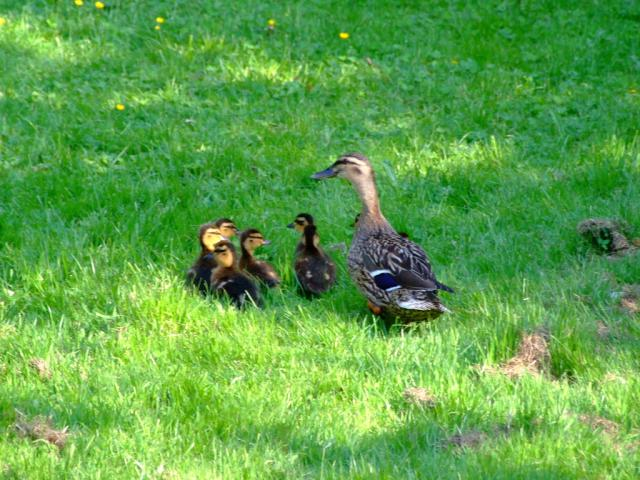Bird: (309, 153, 457, 334), (284, 207, 340, 304), (212, 243, 263, 311), (186, 220, 227, 296), (240, 223, 284, 289)
